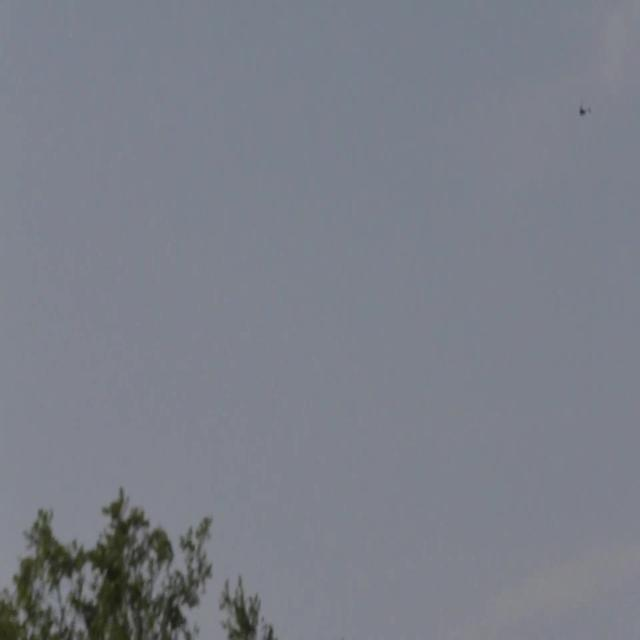CIV_HELO: (578, 104, 592, 119)
